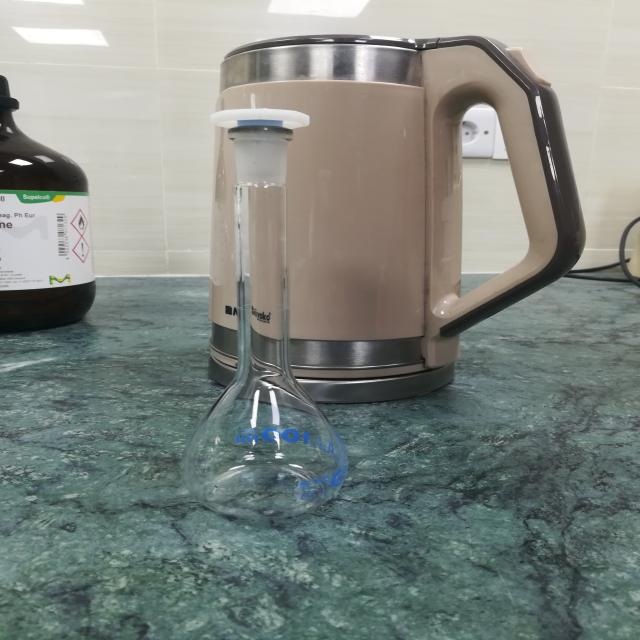Volumetric_Flask: (170, 53, 401, 541)
